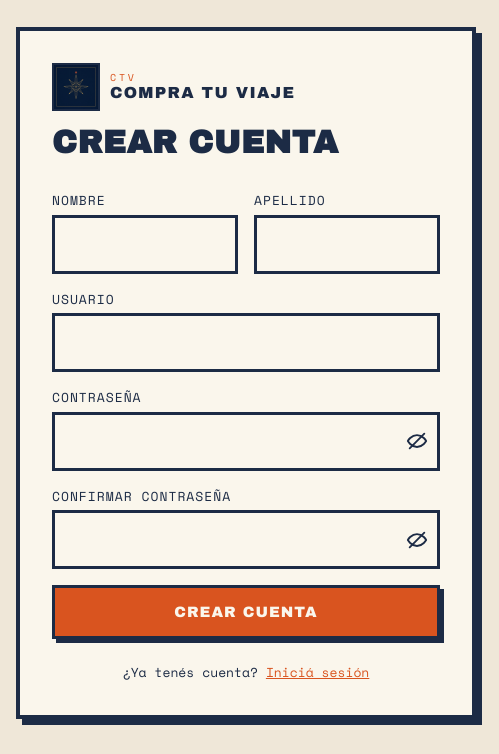
Scenario: Register page › 05 - shows a validation error when the password is shorter than 6 characters
Step 1. Type "Juan" into the field labelled "Nombre" → (145, 244), box [52,215,238,274]
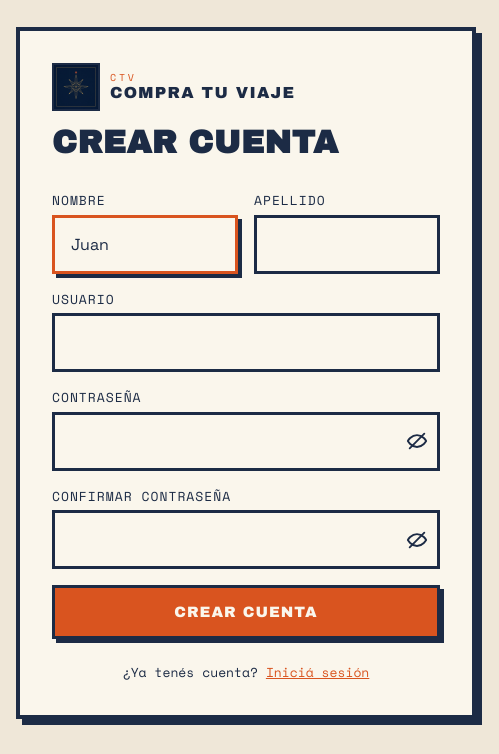
Step 2. Type "Perez" into the field labelled "Apellido" → (347, 244), box [254,215,440,274]
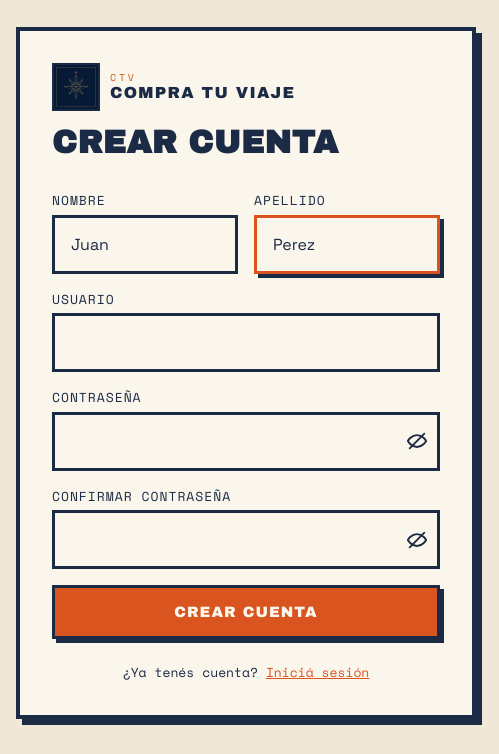
Step 3. Type "juanperez" into the field labelled "Usuario" → (246, 343), box [52,313,440,372]
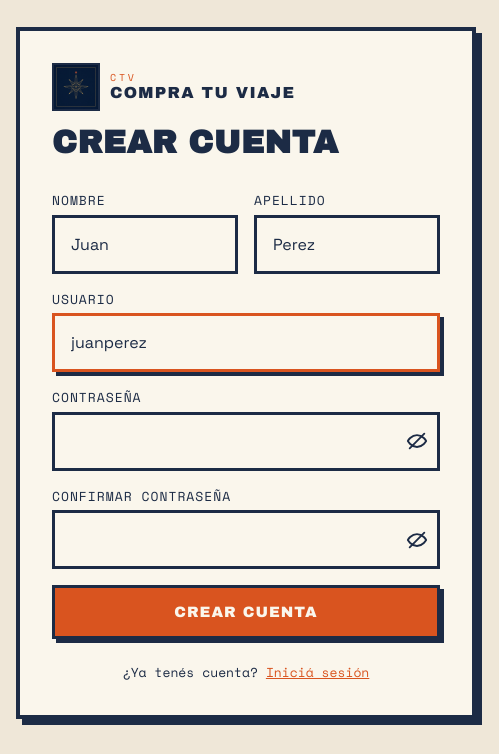
Step 4. Type "123" into the password field labelled "Contraseña" → (246, 441), box [52,412,440,471]
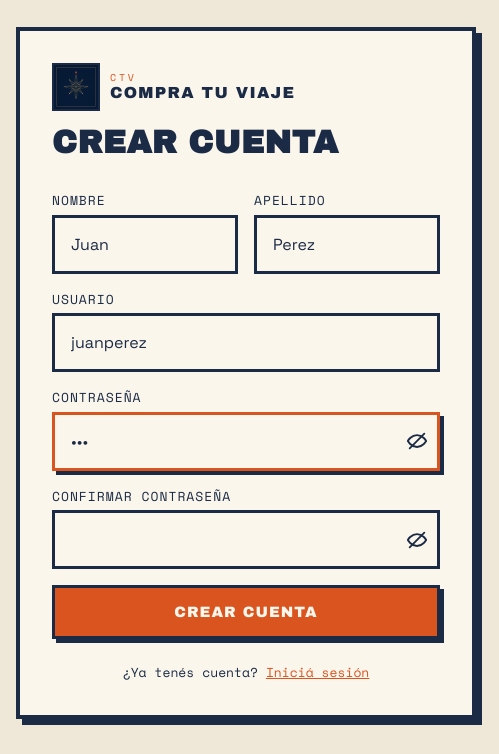
Step 5. Type "123" into the password field labelled "Confirmar contraseña" → (246, 540), box [52,510,440,569]
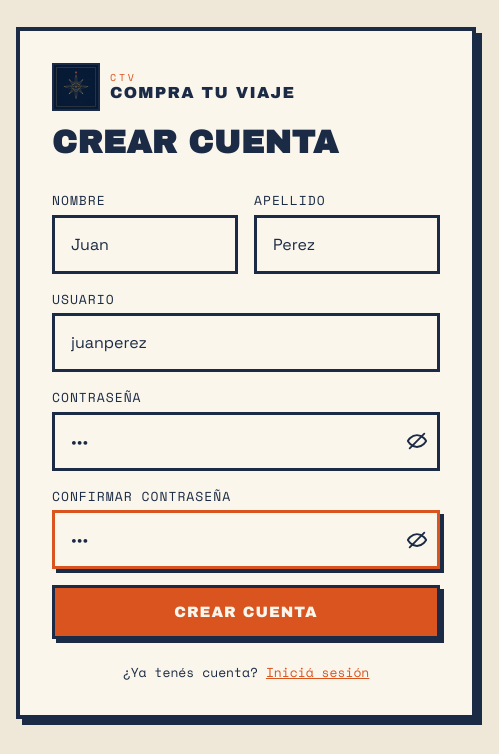
Step 6. Click the button "Crear cuenta" → (246, 612), box [52,585,440,639]
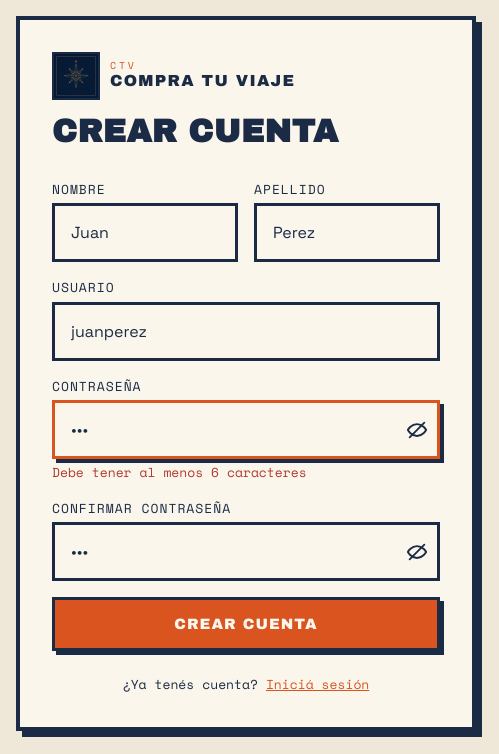
Result: the text "Debe tener al menos 6 caracteres" is shown at [52,462,307,482]
